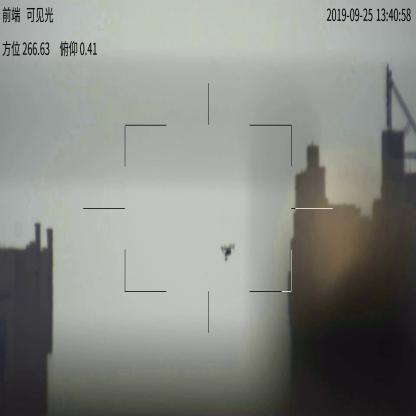uav: (219, 238, 236, 263)
